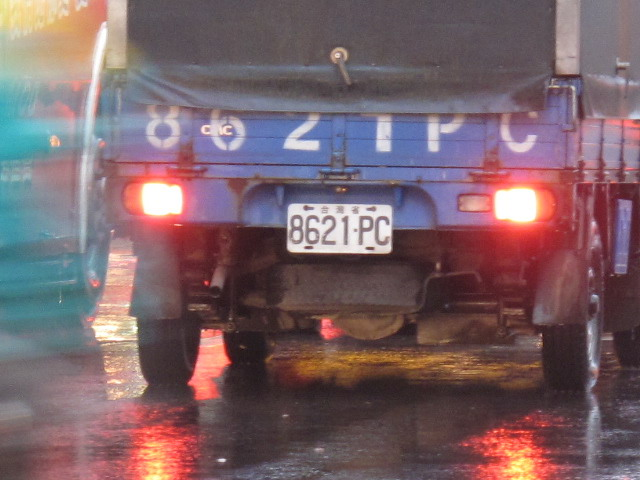plate: (286, 198, 395, 261)
